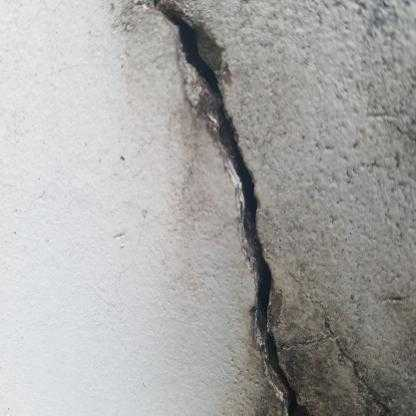crack: (153, 0, 308, 414)
